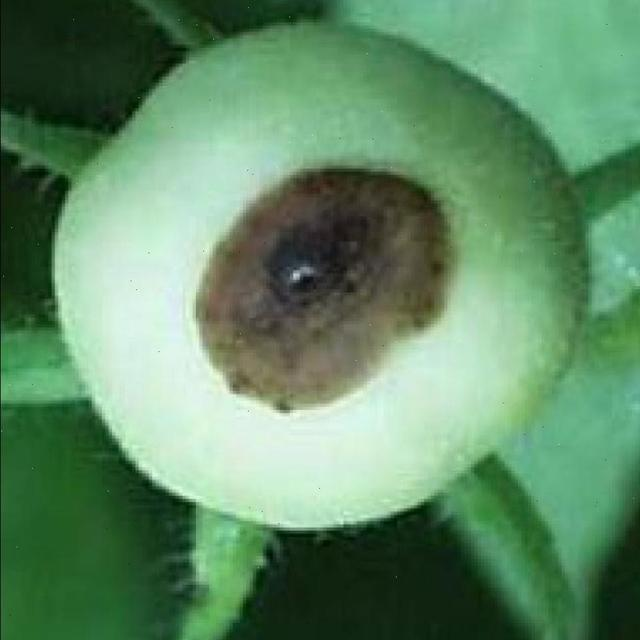Blossom End Rot Fruit: (115, 80, 338, 277)
